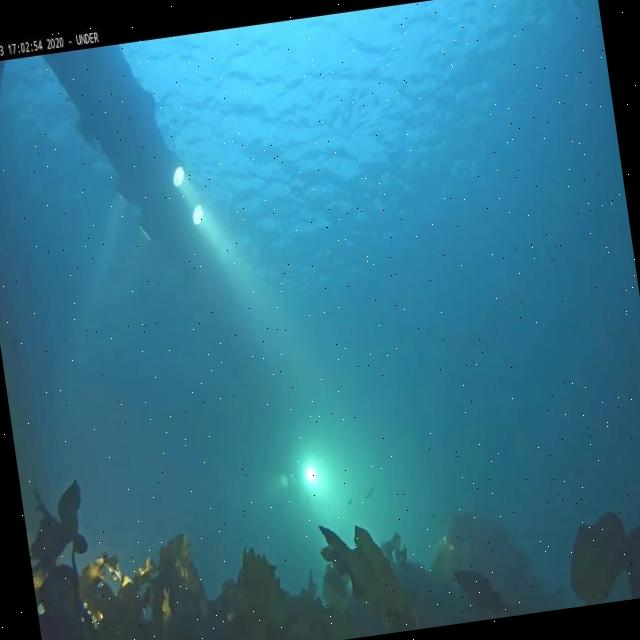fish: (453, 562, 511, 622), (366, 487, 378, 501)
